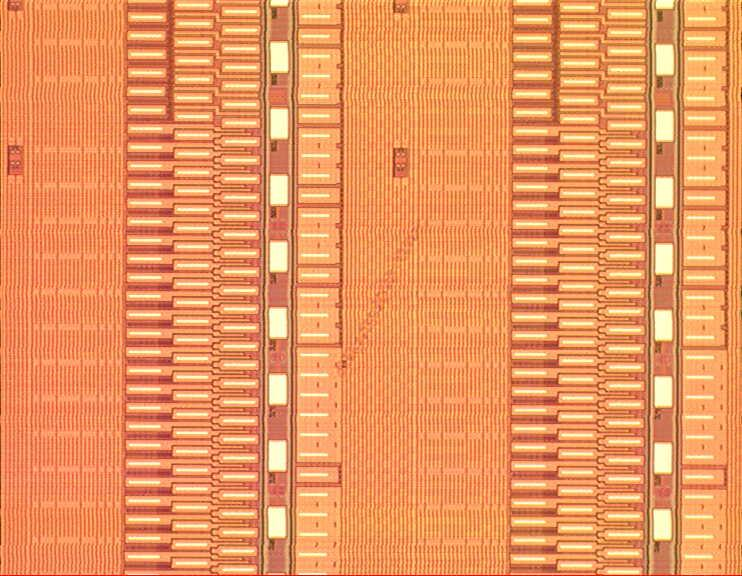SCRATCH: (319, 203, 438, 399)
